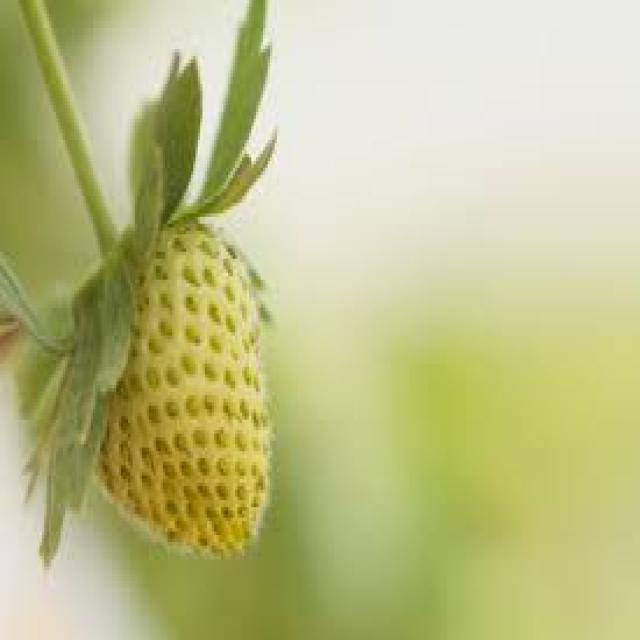strawberry: (81, 218, 272, 562)
